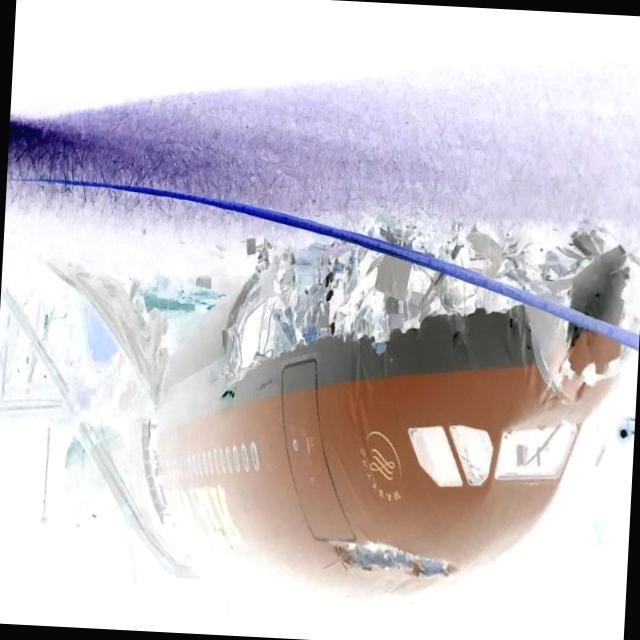crack: (332, 532, 462, 583)
